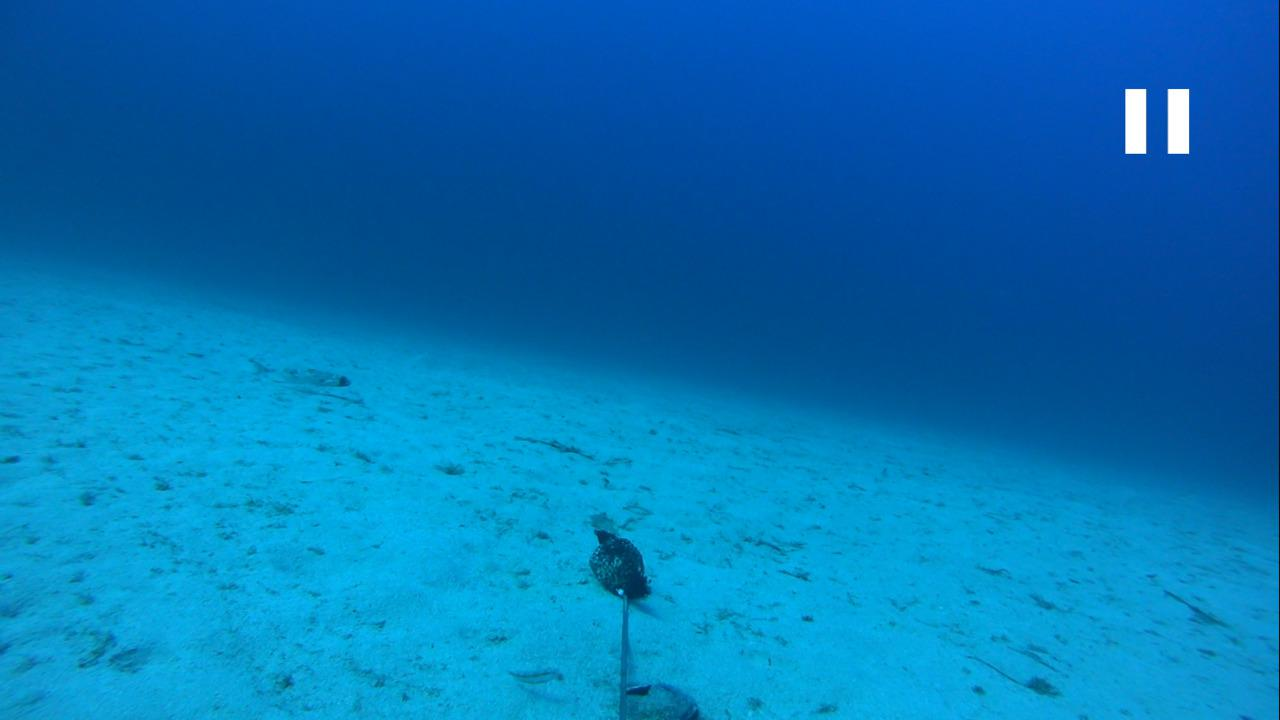dactylopterus: (242, 353, 350, 397)
